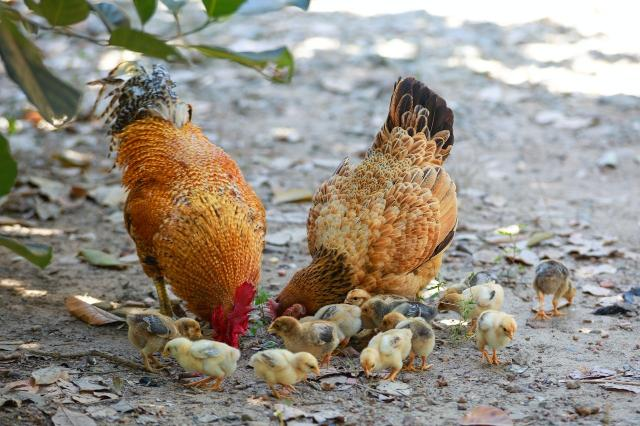Chicken: (93, 58, 267, 348), (266, 75, 458, 319)
